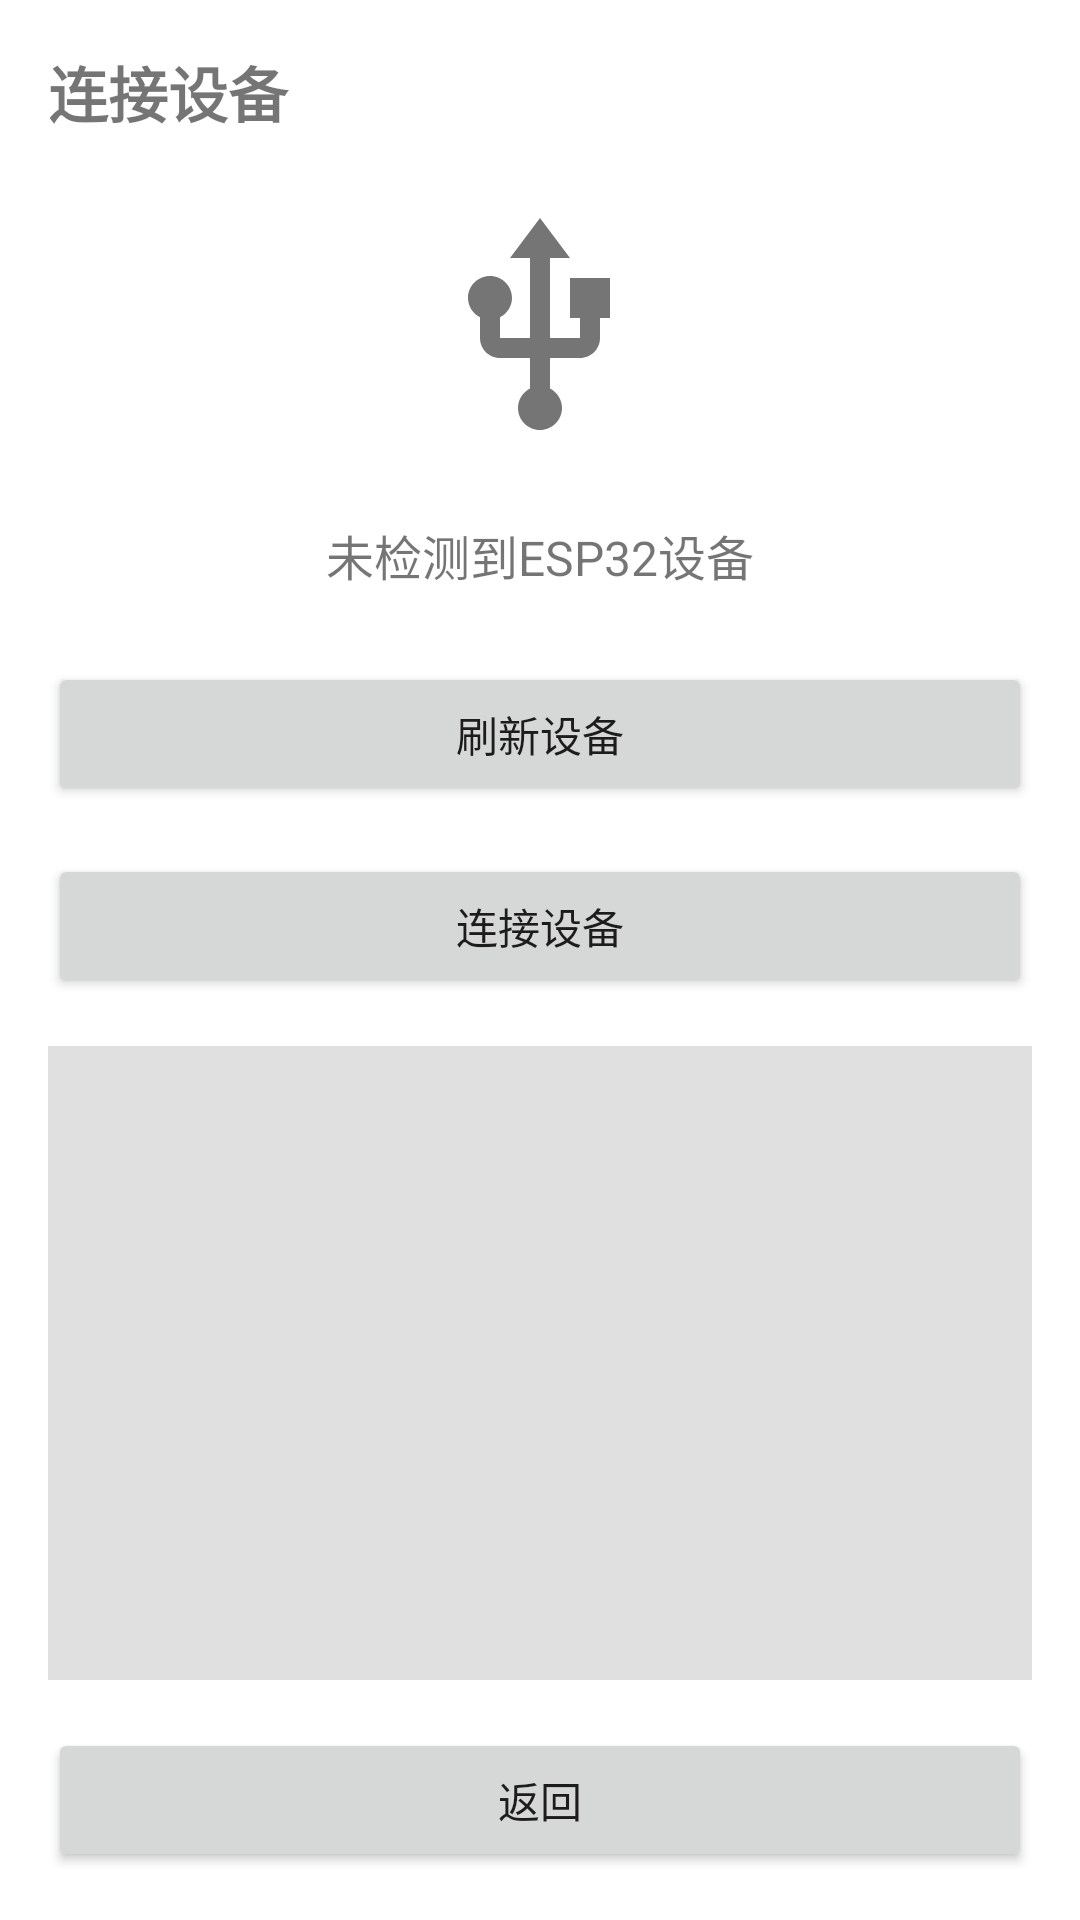

Where to tap for icons on this 1080w x 1920h app screen, as [x,y]:
usb: [539,324]
